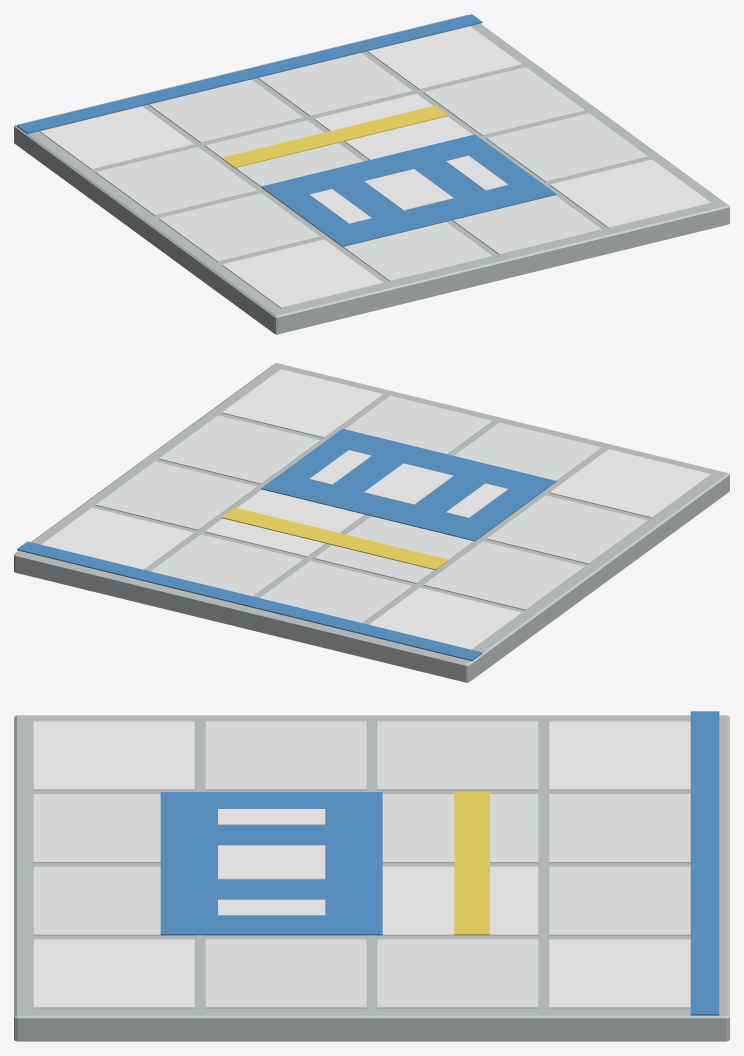
The model's file is public-swimming-baths-and-poolside-poolside-deck-tile--842d9f27__35239.glb.
3 views of the same model, one above another, from view 1: azimuth 30°, elevation 25°; view 2: azimuth 150°, elevation 25°; view 3: azimuth 270°, elevation 25° (orthographic). The views are drawn at different scales.
Parts seen in each view (by area): view 1: poolside-deck-tile-depth-marker; view 2: poolside-deck-tile-depth-marker; view 3: poolside-deck-tile-depth-marker.
Part boxes in pixels (box(x1,y1,x2,y2)): poolside-deck-tile-depth-marker: box(14, 14, 729, 334); poolside-deck-tile-depth-marker: box(14, 363, 729, 682); poolside-deck-tile-depth-marker: box(14, 711, 729, 1041).
Bounding box in the file's own units: 2 × 0.0911 × 2.
